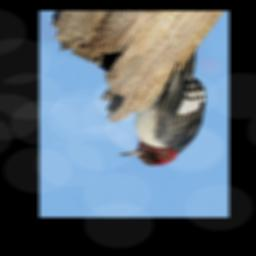Woodpecker: (119, 50, 206, 166)
